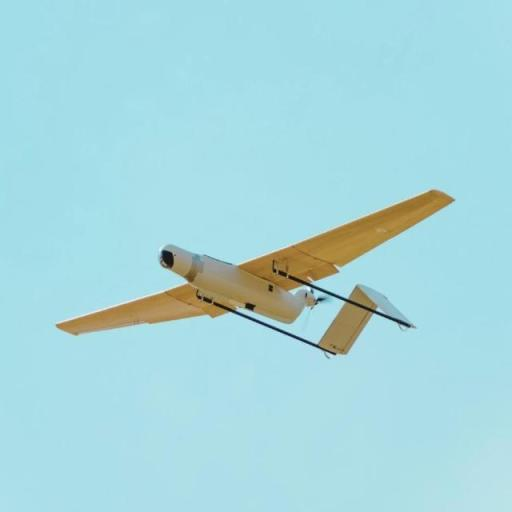uav: (51, 188, 455, 376)
